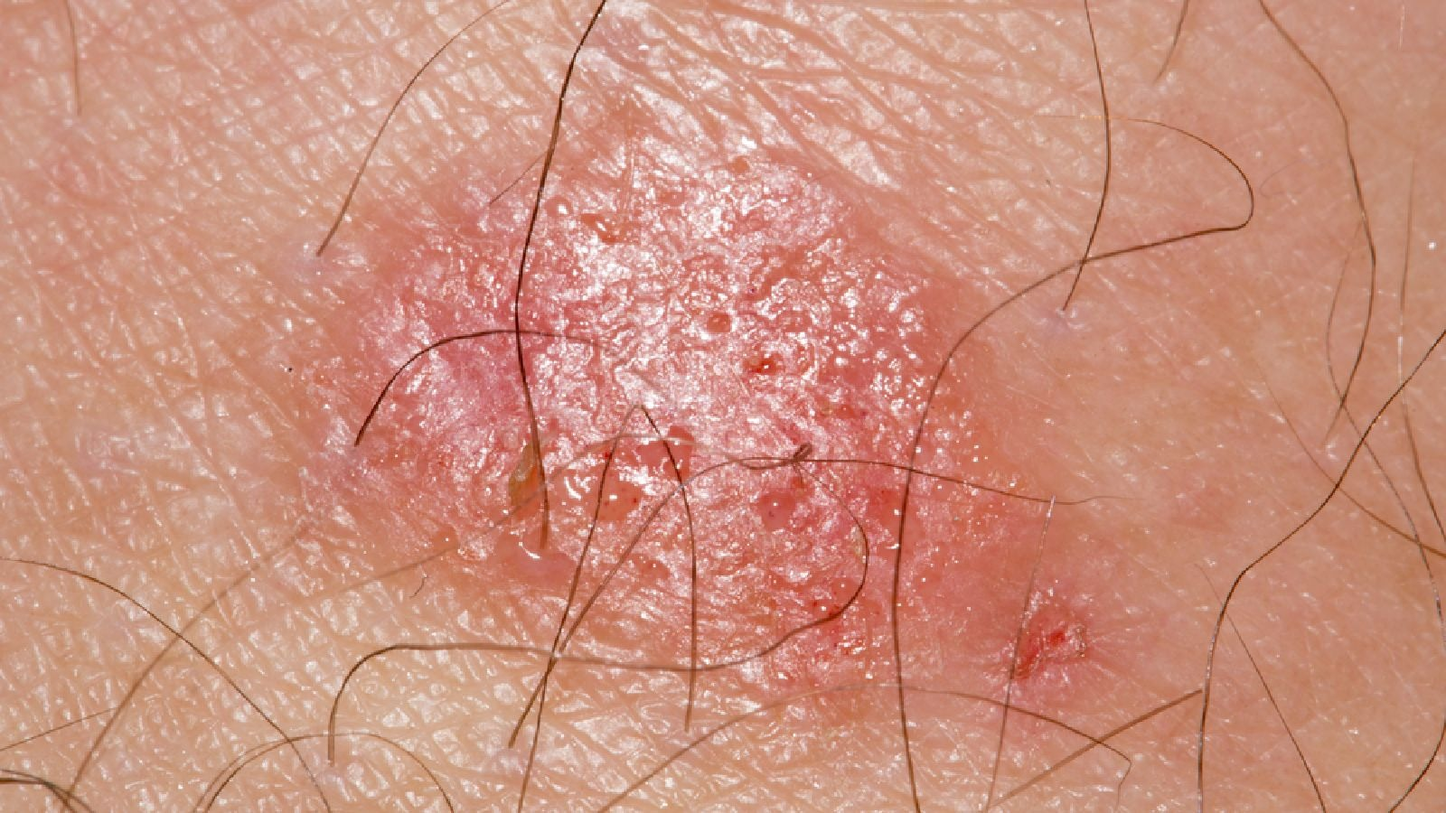Ringworm: (319, 124, 1116, 711)
